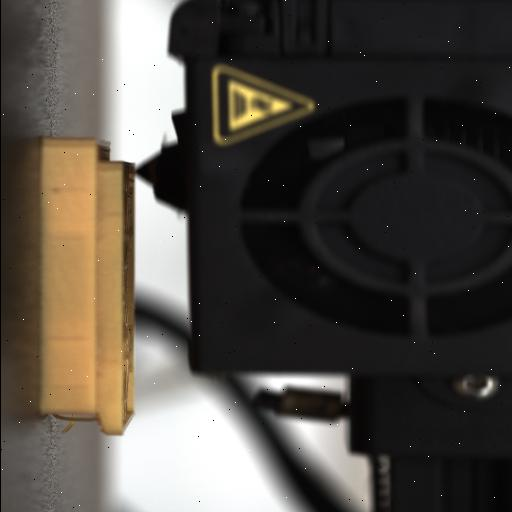layer_shift: (80, 136, 108, 438)
